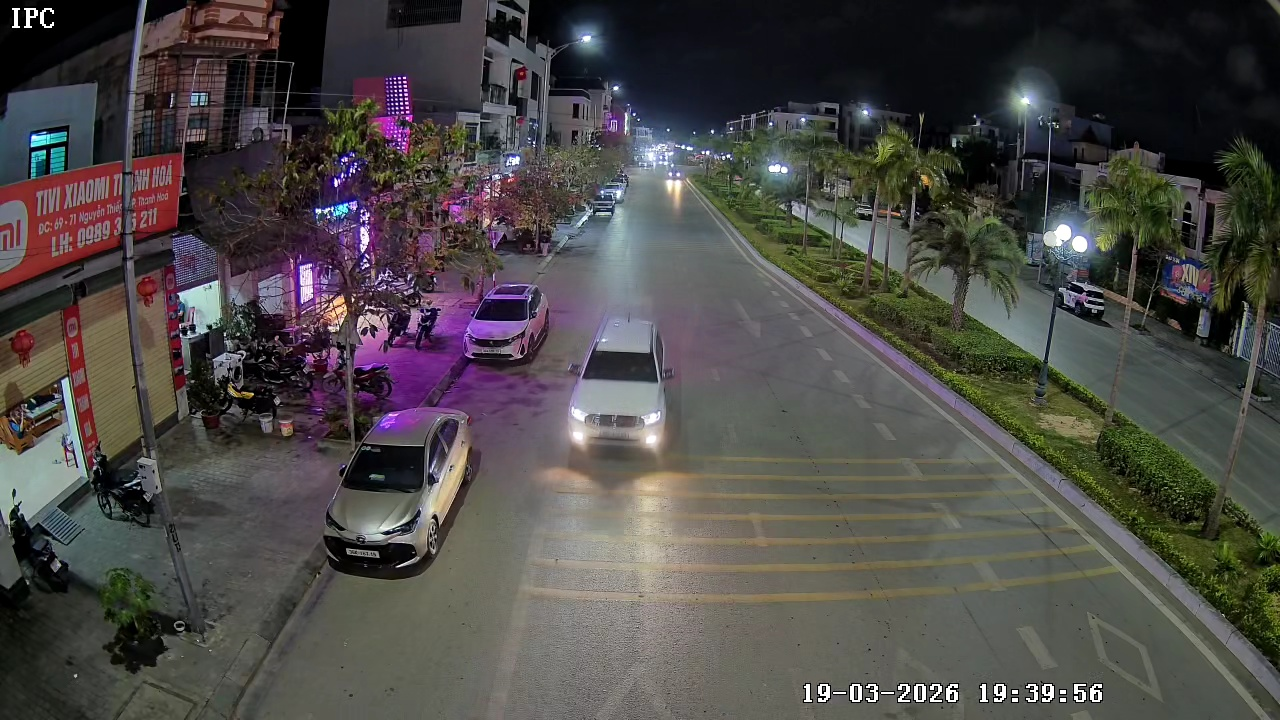car: (322, 406, 481, 575), (567, 318, 676, 464), (464, 281, 551, 364), (589, 188, 618, 220)
